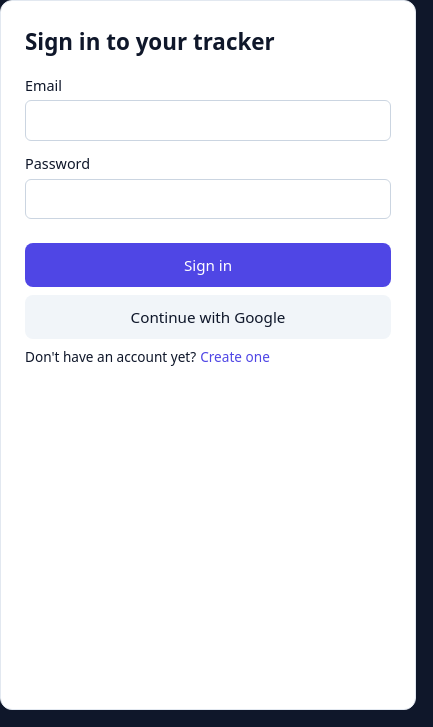
AuthPage › shows friendly error on failed sign in
Type "test@example.com" into the field labelled "Email".
click(208, 121); type("test@example.com")  # box [25,100,391,141]
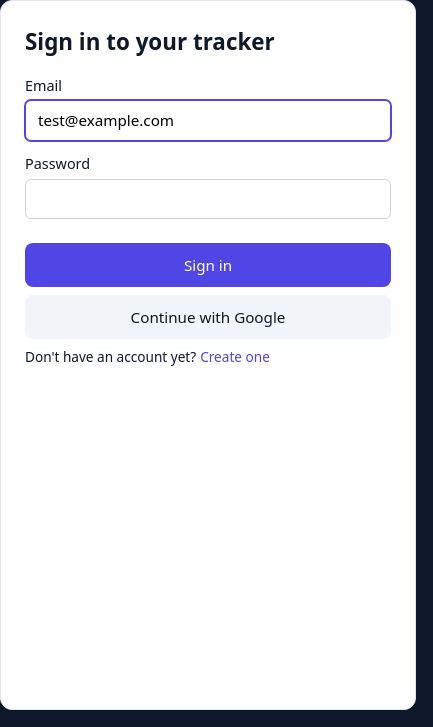
Type "badpass" into the password field labelled "Password".
click(208, 199); type("badpass")  # box [25,179,391,219]
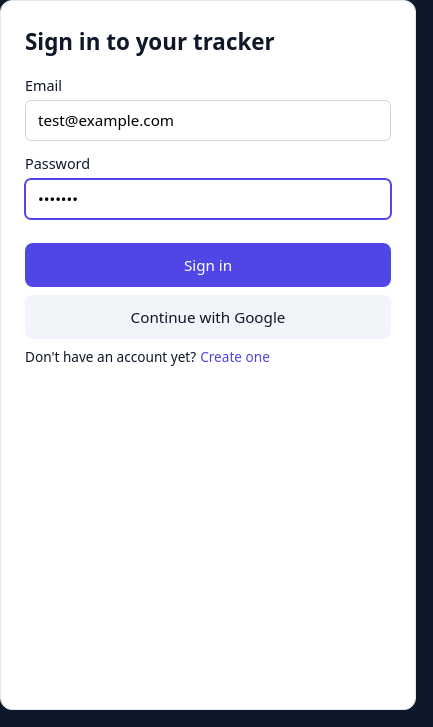
Click the button "Sign in".
click(208, 265)  # box [25,243,391,287]
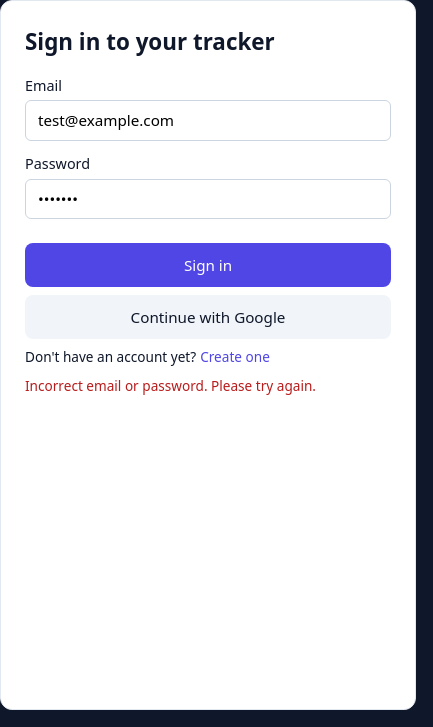
Expected: the text "Incorrect email or password. Please try again." is shown, [25,376,316,395]
